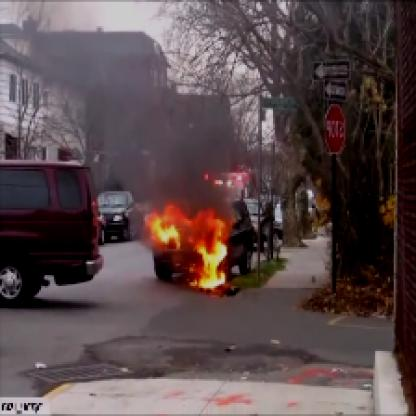Fire: (150, 188, 251, 295)
